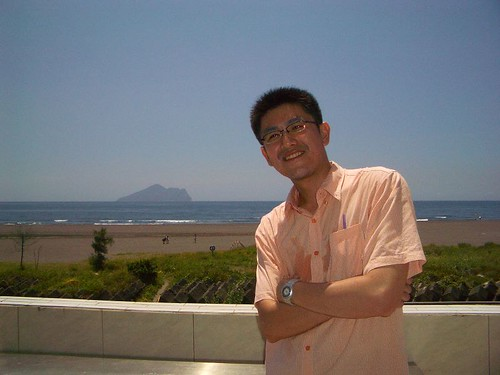turtleIsland: (112, 180, 196, 206)
